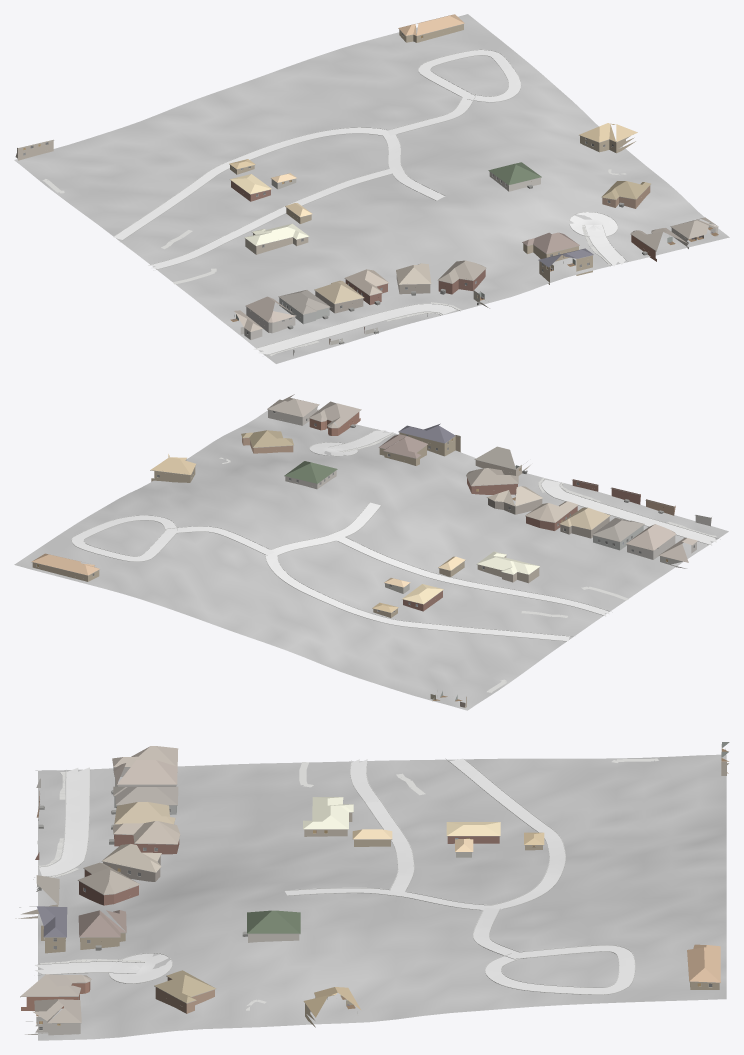
The picture shows the model from 3 angles, top to bottom: view 1: azimuth 30°, elevation 25°; view 2: azimuth 150°, elevation 25°; view 3: azimuth 270°, elevation 25°; orthographic projection. The views are drawn at different scales.
Visible parts, largest first — view 1: ground, roof, concrete, wall, curb, wall_stucco, detail, walk, wall_stone; view 2: ground, roof, concrete, wall, curb, wall_stucco, detail, walk, wall_stone; view 3: ground, roof, concrete, wall, curb, detail, wall_stucco, walk.
Boxes of the visible parts, x1,y1,x2,y2 form: ground: (14, 14, 729, 363); roof: (229, 14, 718, 331); concrete: (113, 50, 625, 354); wall: (230, 24, 656, 344); curb: (115, 49, 628, 355); wall_stucco: (15, 139, 717, 324); detail: (18, 23, 718, 345); walk: (42, 169, 626, 356); wall_stone: (240, 307, 295, 355); ground: (14, 410, 728, 710); roof: (31, 394, 697, 612); concrete: (72, 430, 716, 641); wall: (32, 412, 675, 617); curb: (71, 429, 720, 641); wall_stucco: (268, 406, 643, 707); detail: (31, 405, 710, 698); walk: (219, 433, 716, 692); wall_stone: (627, 515, 711, 568); ground: (38, 754, 726, 1040); roof: (20, 746, 720, 1023); concrete: (35, 758, 634, 994); wall: (21, 791, 719, 1027); curb: (33, 758, 635, 994); detail: (19, 744, 721, 1030); wall_stucco: (15, 762, 726, 1035); walk: (38, 758, 658, 1010).
Bounding box in the file's own units: 265 × 31.23 × 260.
